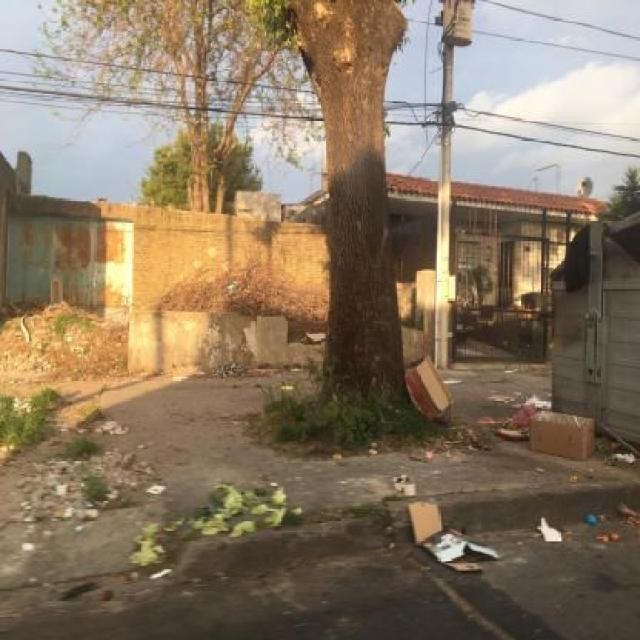garbage: (143, 457, 502, 574), (409, 339, 609, 478), (14, 396, 128, 529), (186, 346, 262, 384)
